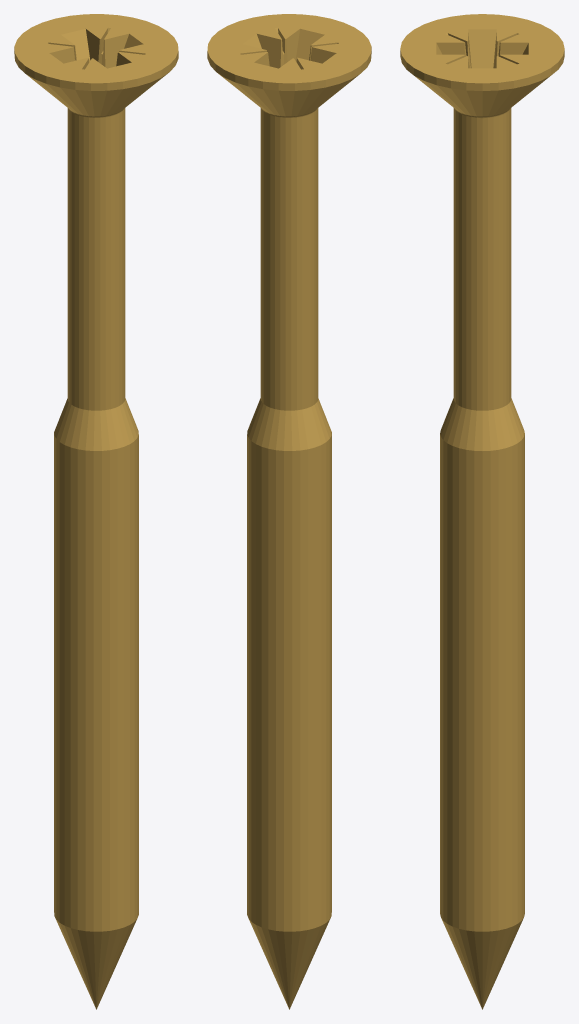
The model's file is model_display.glb.
3 views of the same model, side by side, from view 1: azimuth 30°, elevation 25°; view 2: azimuth 150°, elevation 25°; view 3: azimuth 270°, elevation 25° (orthographic).
Parts seen in each view (by area): view 1: geometry_0; view 2: geometry_0; view 3: geometry_0.
Boxes of the visible parts, left/top/right/bottom form: geometry_0: left=14, top=14, right=178, bottom=1009; geometry_0: left=207, top=14, right=371, bottom=1009; geometry_0: left=400, top=14, right=564, bottom=1009.
Bounding box in the file's own units: 0.00775 × 0.05 × 0.00775.
